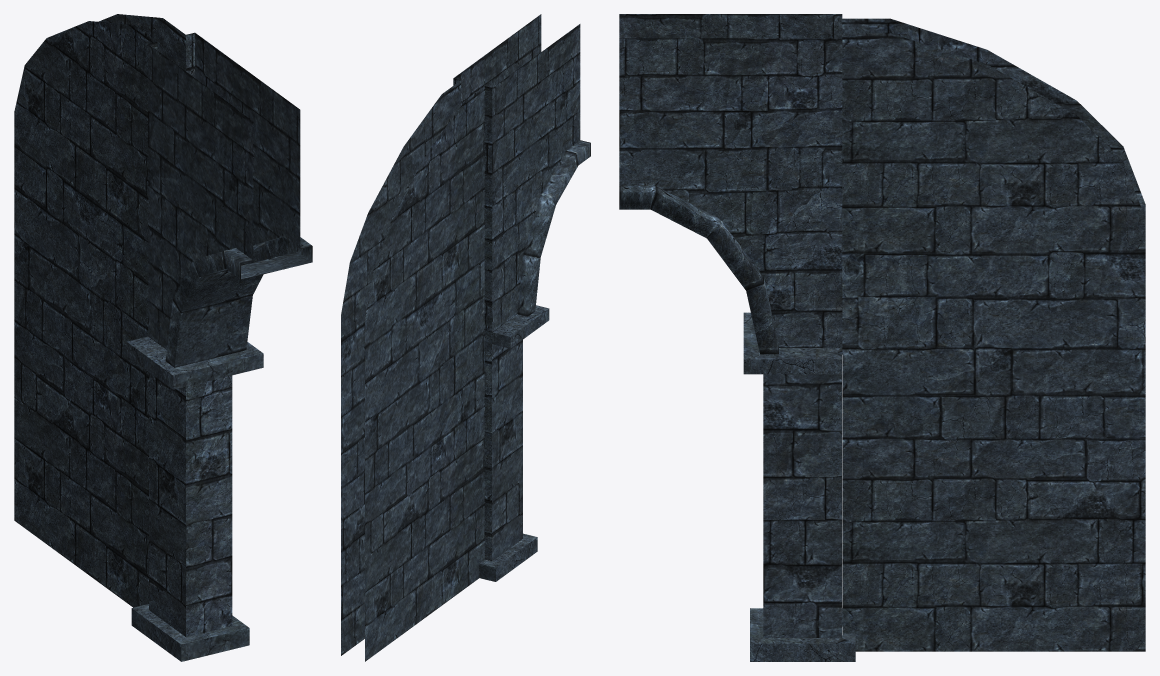
File: Arch_end2.FBX
The picture shows the model from 3 angles, left to right: view 1: azimuth 30°, elevation 25°; view 2: azimuth 150°, elevation 25°; view 3: azimuth 270°, elevation 25°; orthographic projection. The views are drawn at different scales.
Visible parts, largest first — view 1: Line01; view 2: Line01; view 3: Line01.
Part boxes in pixels (x1=…): Line01: x1=14, y1=14, x2=312, y2=661; Line01: x1=341, y1=14, x2=590, y2=661; Line01: x1=619, y1=14, x2=1145, y2=661.
Bounding box in the file's own units: 11.42 × 70.28 × 54.22.
